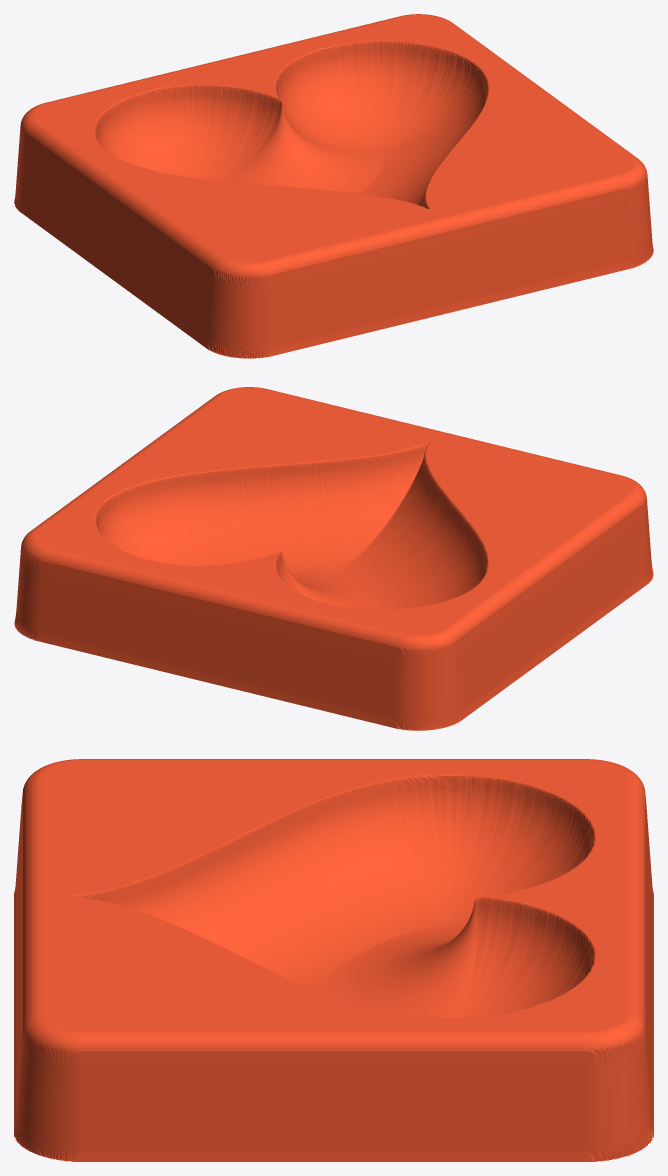
Rendered from mold.glb.
The picture shows the model from 3 angles, top to bottom: view 1: azimuth 30°, elevation 25°; view 2: azimuth 150°, elevation 25°; view 3: azimuth 270°, elevation 25°; orthographic projection. The views are drawn at different scales.
Parts seen in each view (by area): view 1: geometry_0; view 2: geometry_0; view 3: geometry_0.
Boxes of the visible parts, x1,y1,x2,y2 form: geometry_0: [14, 14, 653, 358]; geometry_0: [14, 387, 653, 730]; geometry_0: [14, 759, 653, 1161].
Size of the model in its own units: 0.0924 by 0.0175 by 0.0852.
